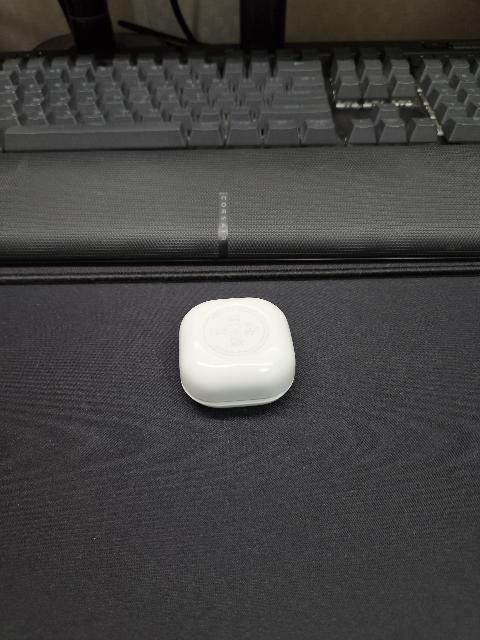earphone_case: (179, 297, 296, 408)
